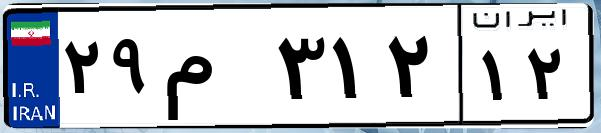1: (330, 28, 385, 110), (475, 38, 525, 113)
2: (385, 28, 445, 110), (57, 26, 110, 100), (525, 38, 570, 115)
3: (270, 28, 330, 110)
9: (110, 28, 158, 98)
م: (158, 20, 270, 120)
